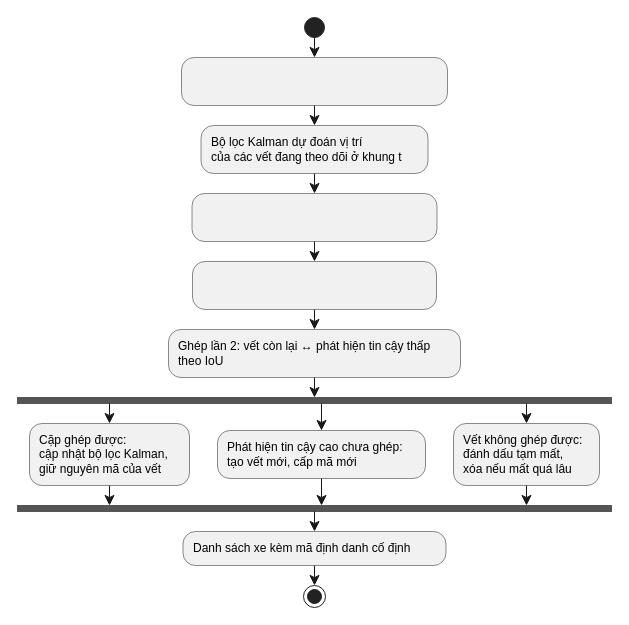
Some shapes in this 629 by 625 pixel diagram are drawn without their labels. Each missing label, with the centre of its shape:
"Ghép lần 1: vết ↔ phát hiện tin cậy cao theo IoU (thuật toán Hungary)" goes at (314,285).
"Khung hình t: các phát hiện của YOLOv11 (khung bao + độ tin cậy)" goes at (314,81).
"Tách phát hiện theo độ tin cậy: nhóm tin cậy cao và nhóm tin cậy thấp" goes at (314,217).
